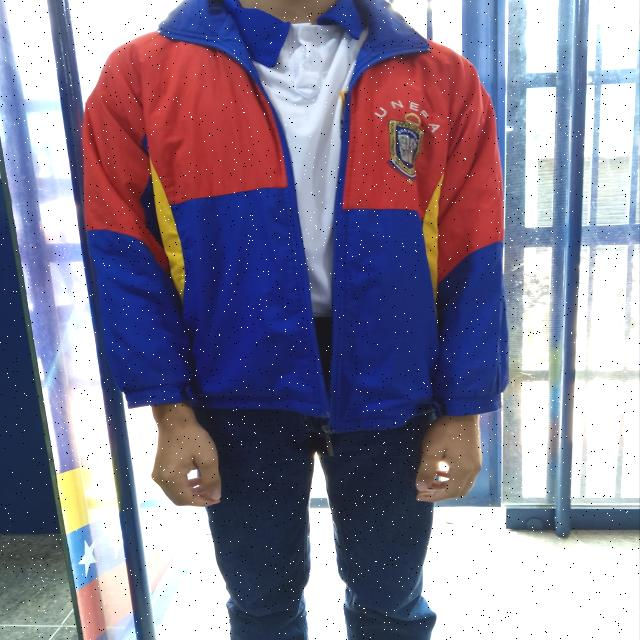chaqueta_unefa: (81, 0, 510, 433)
pantalon_oscuro: (196, 409, 437, 640)
